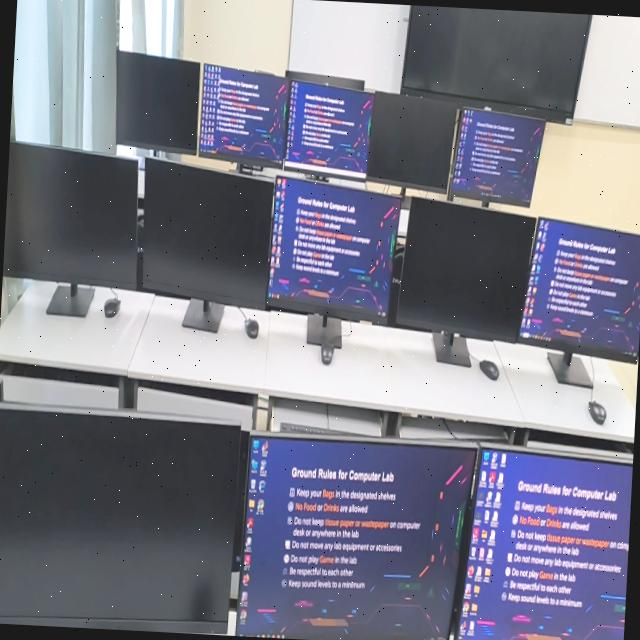Digital board: (401, 4, 591, 123)
Keyboard: (137, 380, 256, 405), (0, 361, 117, 386), (528, 431, 634, 456), (279, 423, 380, 436)
Monitor: (0, 401, 240, 633), (234, 432, 476, 640), (453, 448, 633, 640), (391, 196, 535, 365), (2, 140, 137, 315), (265, 174, 399, 346), (141, 158, 272, 332), (517, 216, 640, 387), (449, 107, 545, 206), (365, 91, 458, 192), (198, 63, 287, 166), (284, 78, 372, 180), (115, 49, 200, 153), (284, 70, 363, 90)
Mouse: (587, 400, 605, 424), (478, 359, 498, 379), (103, 295, 120, 317), (244, 318, 258, 338), (320, 343, 334, 363)
